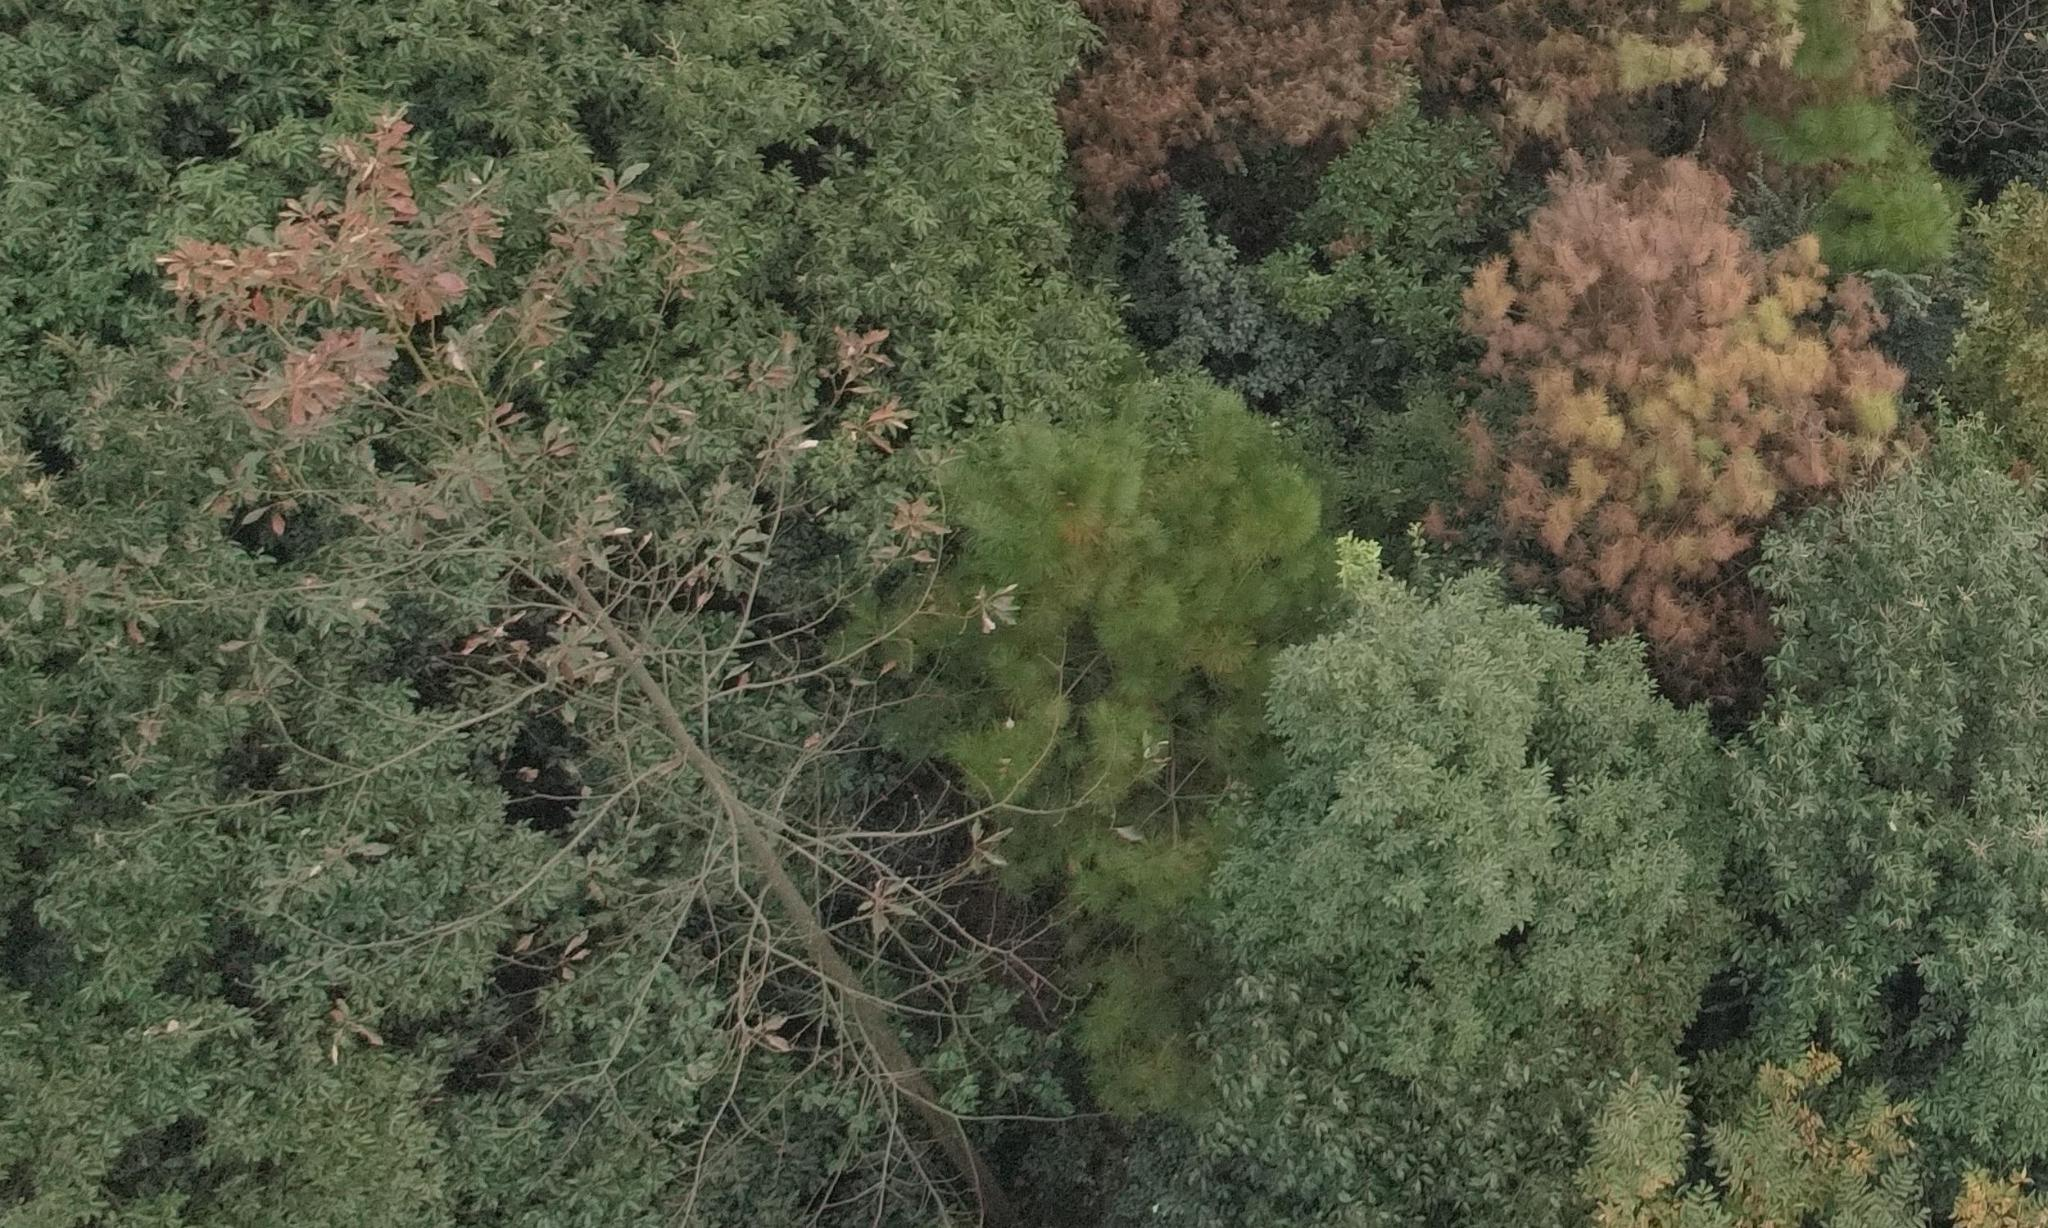heavy: (1457, 15, 1903, 674), (1048, 0, 1428, 170)
